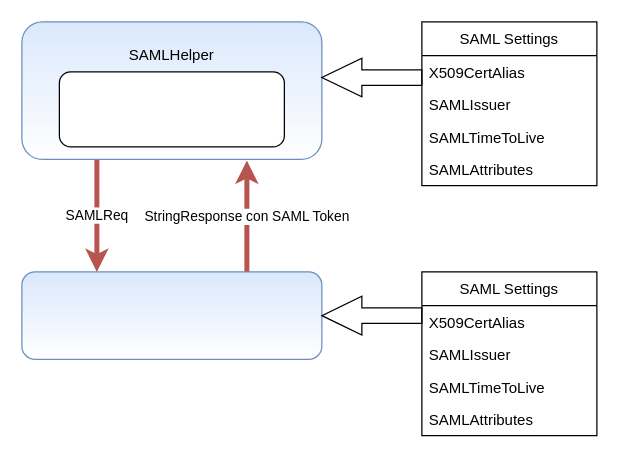
Image size: 619x461. Some labels were removed from this diagram. The shapes that lost their labels are listed below. From the top down, each one's centre as x and y in pixels, then its label:
(171,109): BO SOAP
(171,315): BO SAMLSigner
